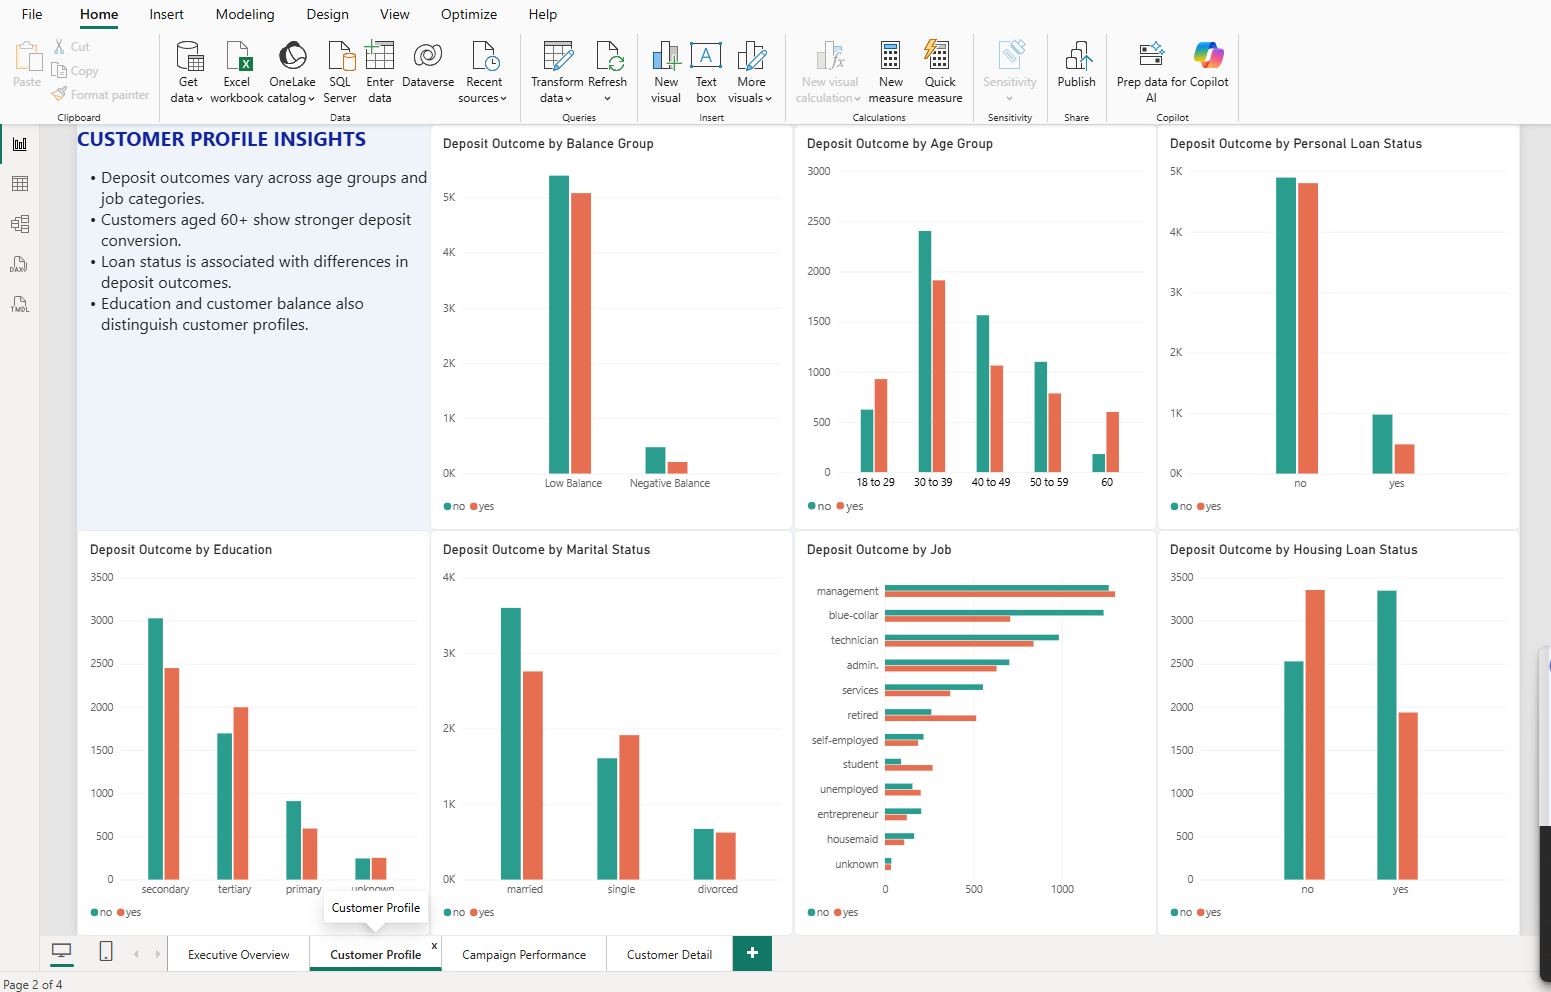

This screenshot's page, from the dashboard's own definition file:
{"tool":"powerbi","page":{"name":"Customer Profile","canvas":[1920,1080],"ordinal":1},"visuals":[{"type":"clusteredColumnChart","title":"Deposit Outcome by Age Group","fields":{"Category":["bank.Age Group"],"Series":["bank.deposit"],"Y":["bank.Total Records"]},"box":[953.3,0,483.3,540],"z":0},{"type":"clusteredColumnChart","title":"Deposit Outcome by Balance Group","fields":{"Category":["bank.Balance Group"],"Series":["bank.deposit"],"Y":["bank.Total Records"]},"box":[470,0,483.3,540],"z":1000},{"type":"clusteredBarChart","title":"Deposit Outcome by Job","fields":{"Category":["bank.job"],"Series":["bank.deposit"],"Y":["bank.Total Records"]},"box":[953.3,540,483.3,540],"z":2000},{"type":"clusteredColumnChart","title":"Deposit Outcome by Education","fields":{"Category":["bank.education"],"Series":["bank.deposit"],"Y":["bank.Total Records"]},"box":[0,540,470,540],"z":3000},{"type":"clusteredColumnChart","title":"Deposit Outcome by Marital Status","fields":{"Category":["bank.marital"],"Series":["bank.deposit"],"Y":["bank.Total Records"]},"box":[470,540,483.3,540],"z":4000},{"type":"clusteredColumnChart","title":"Deposit Outcome by Housing Loan Status","fields":{"Category":["bank.housing"],"Series":["bank.deposit"],"Y":["bank.Total Records"]},"box":[1436.7,540,483.3,540],"z":5000},{"type":"clusteredColumnChart","title":"Deposit Outcome by Personal Loan Status","fields":{"Category":["bank.loan"],"Series":["bank.deposit"],"Y":["bank.Total Records"]},"box":[1436.7,0,483.3,540],"z":6000},{"type":"textbox","box":[0,0,470,540],"z":6001}]}

Visuals, with their boxes on the page's 1920x1080 design canvas (x1, y1, x2, y2). These are canvas units, not pixel positions in the 1551x992 screenshot, which may show the page scaled, cropped or inside an application window:
"Deposit Outcome by Age Group" clusteredColumnChart: locate(953, 0, 1437, 540)
"Deposit Outcome by Balance Group" clusteredColumnChart: locate(470, 0, 953, 540)
"Deposit Outcome by Job" clusteredBarChart: locate(953, 540, 1437, 1080)
"Deposit Outcome by Education" clusteredColumnChart: locate(0, 540, 470, 1080)
"Deposit Outcome by Marital Status" clusteredColumnChart: locate(470, 540, 953, 1080)
"Deposit Outcome by Housing Loan Status" clusteredColumnChart: locate(1437, 540, 1920, 1080)
"Deposit Outcome by Personal Loan Status" clusteredColumnChart: locate(1437, 0, 1920, 540)
textbox: locate(0, 0, 470, 540)
